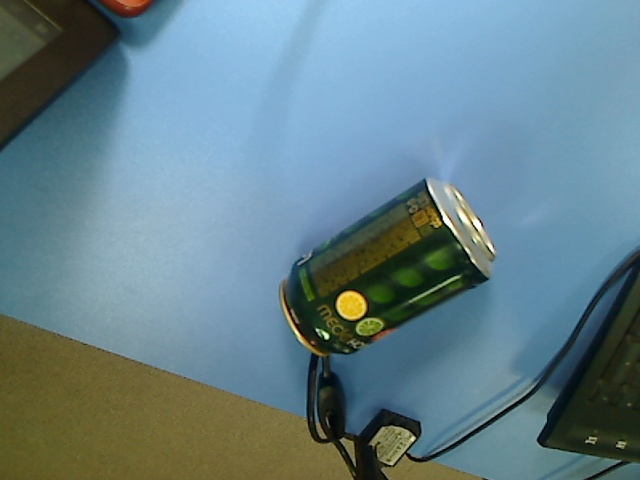can: (277, 177, 501, 359)
